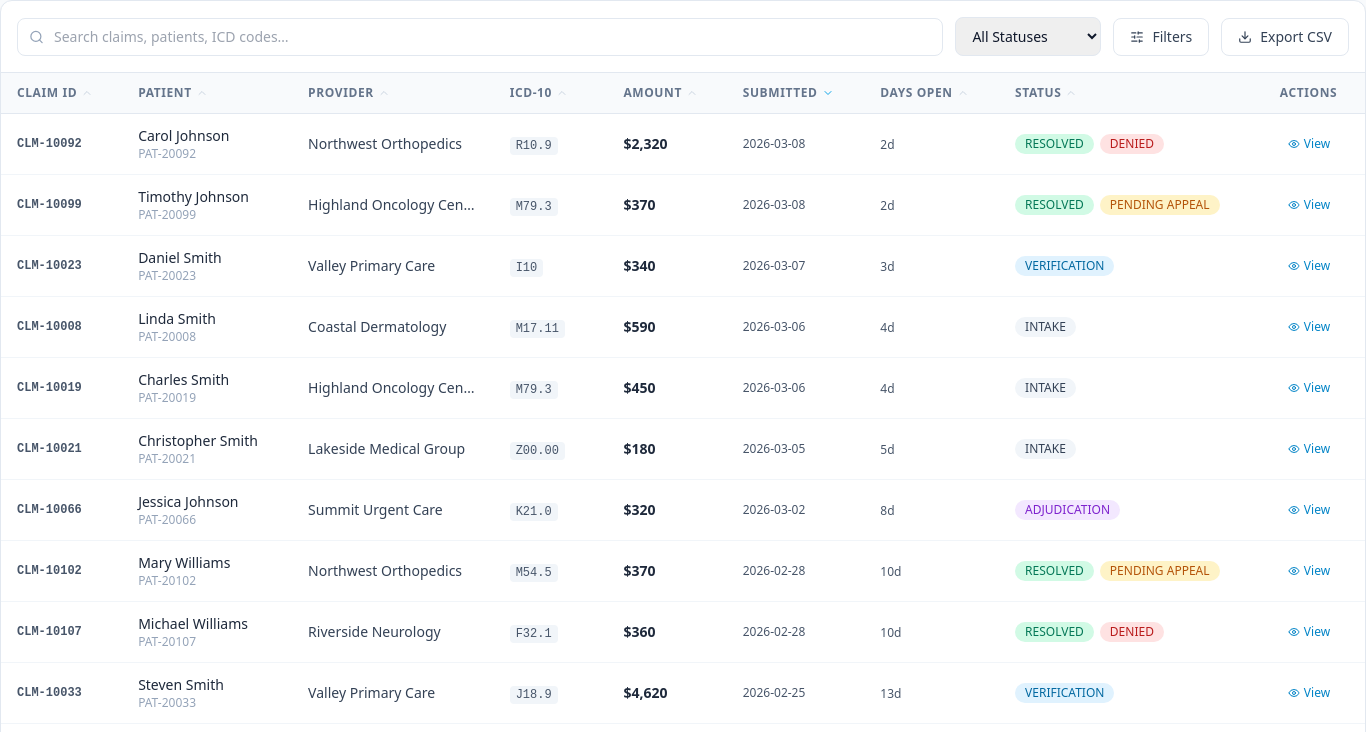
ClaimsTable › toggles advanced filters panel
Click the button "Filters" at (1161, 36), box [1113,18,1209,56]
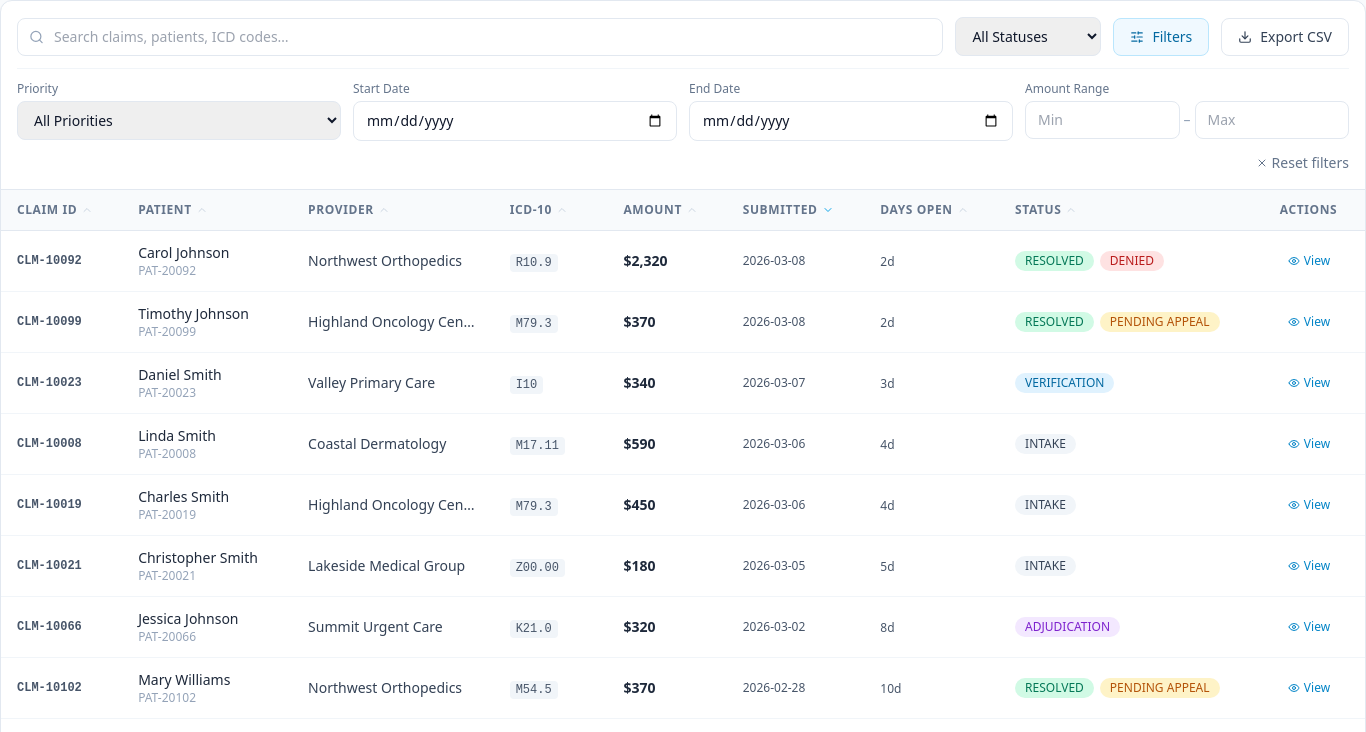
expect the text "Priority" is shown: met, box [17,80,58,97]
expect the text "Start Date" is shown: met, box [353,80,410,97]
expect the text "Amount Range" is shown: met, box [1025,80,1109,97]
